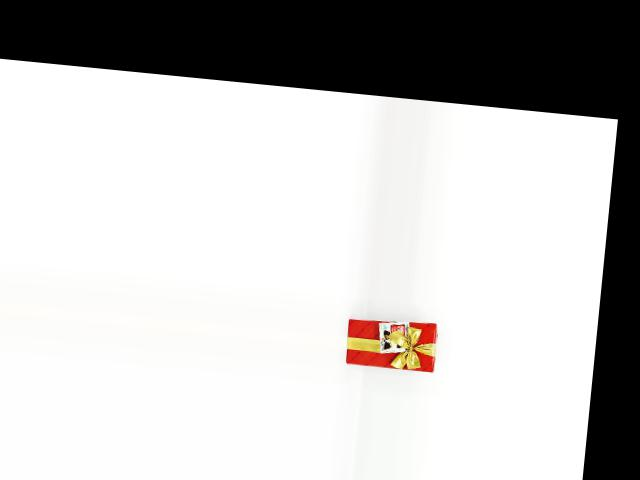chocolate: (345, 315, 441, 377)
